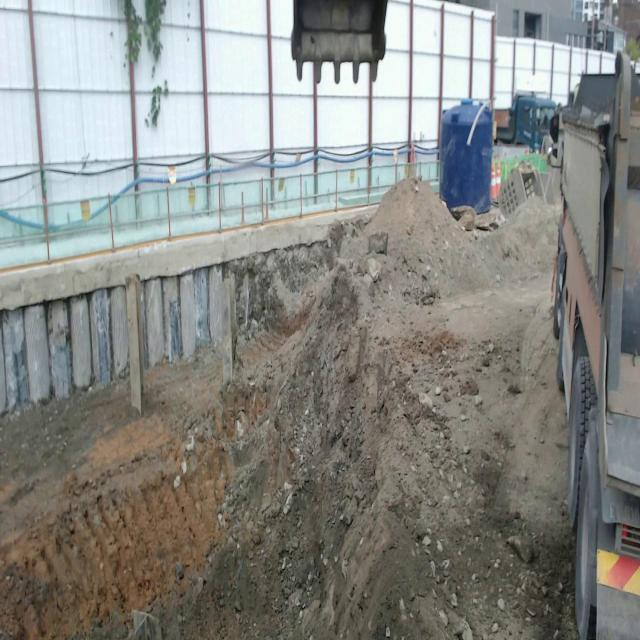red-sand: (0, 181, 575, 639)
